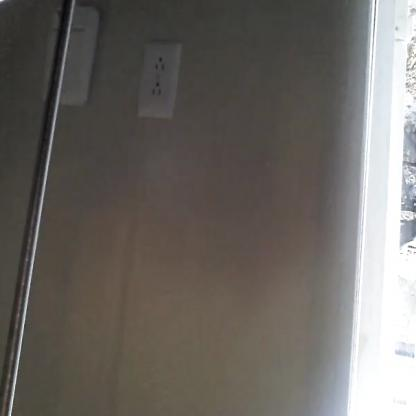OUTLET: (137, 38, 183, 120)
